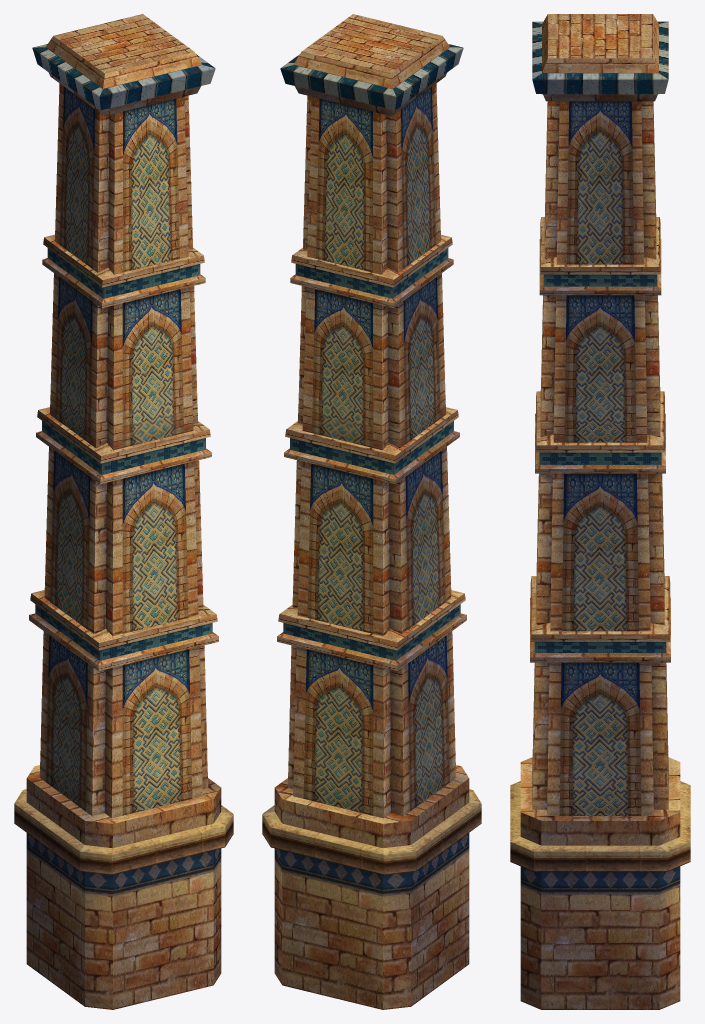
The model's file is SquarePillarTall.gltf.
3 views of the same model, side by side, from view 1: azimuth 30°, elevation 25°; view 2: azimuth 150°, elevation 25°; view 3: azimuth 270°, elevation 25° (orthographic).
Parts seen in each view (by area): view 1: SquarePillarTallMesh; view 2: SquarePillarTallMesh; view 3: SquarePillarTallMesh.
Boxes of the visible parts, box(x1,y1,x2,y2) form: SquarePillarTallMesh: box(14, 14, 233, 1009); SquarePillarTallMesh: box(262, 14, 481, 1009); SquarePillarTallMesh: box(510, 14, 690, 1009).
Bounding box in the file's own units: 1.74 × 10 × 1.74.
2 materials, 2 textured.
